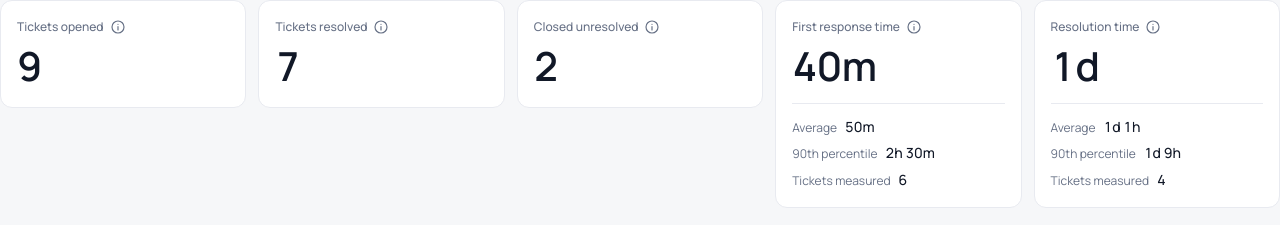
it: the overview row › puts the methodology behind the label’s info control, reachable by keyboard
Click the button named "First response time: how it is measured".
click(914, 27)  # box [904, 17, 924, 37]
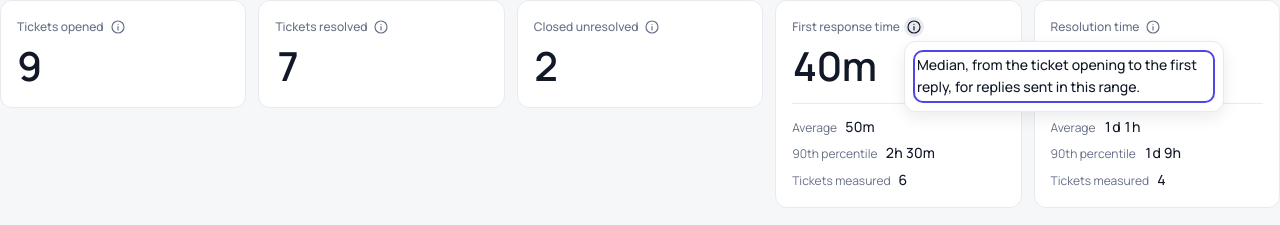
Check: the text "Median, from the ticket opening to the first reply, for replies sent in this range." is shown, box [917, 55, 1197, 96]
Press Escape
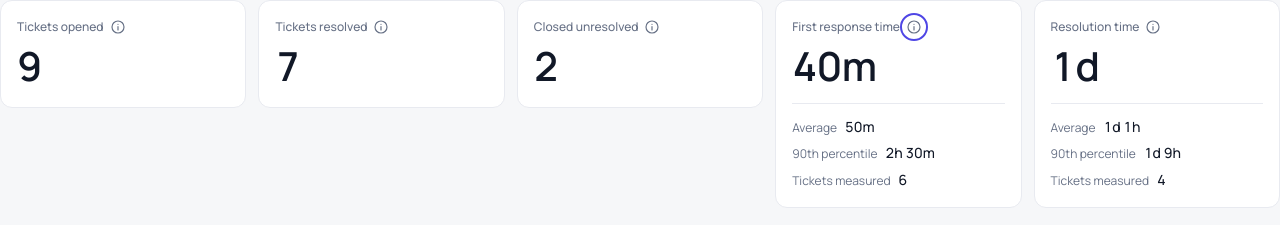
Check: the text "Median, from the ticket opening to the first reply, for replies sent in this range." is gone
